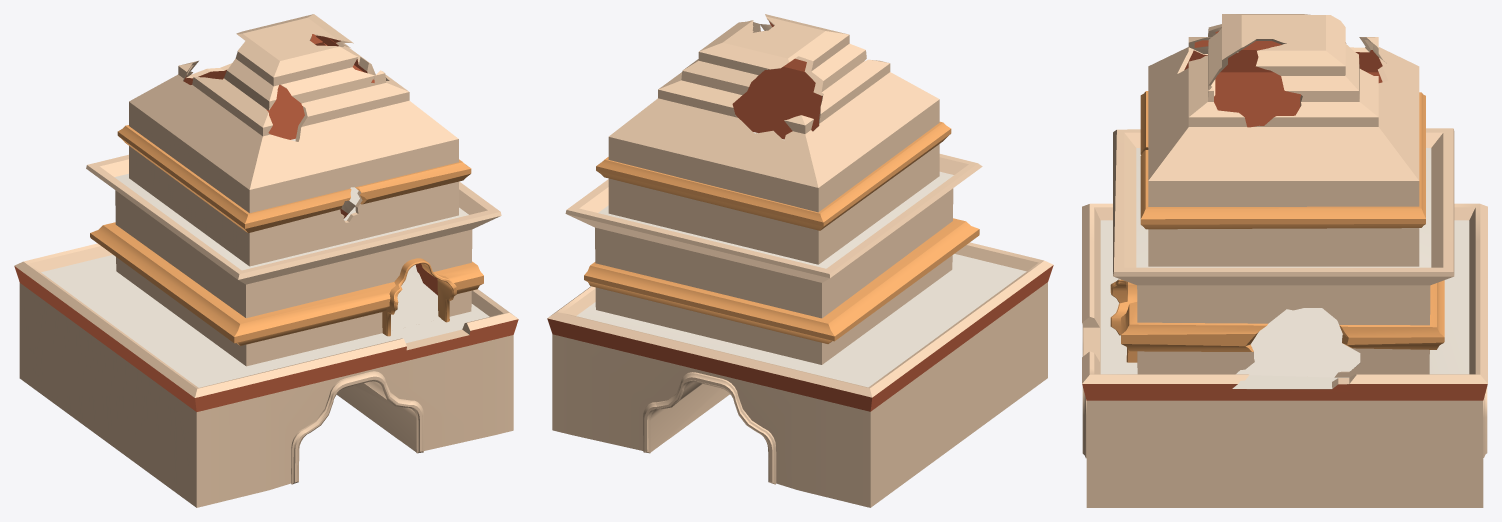
3 renders of one model, left to right at view 1: azimuth 30°, elevation 25°; view 2: azimuth 150°, elevation 25°; view 3: azimuth 270°, elevation 25°, orthographic. The views are drawn at different scales.
Visible parts, largest first — view 1: Cube.031; view 2: Cube.031; view 3: Cube.031.
Part boxes in pixels (x1,y1,x2,y2): Cube.031: (14, 14, 518, 507); Cube.031: (547, 14, 1053, 507); Cube.031: (1082, 14, 1487, 507).
Size of the model in its own units: 4067 by 4313 by 3933.
